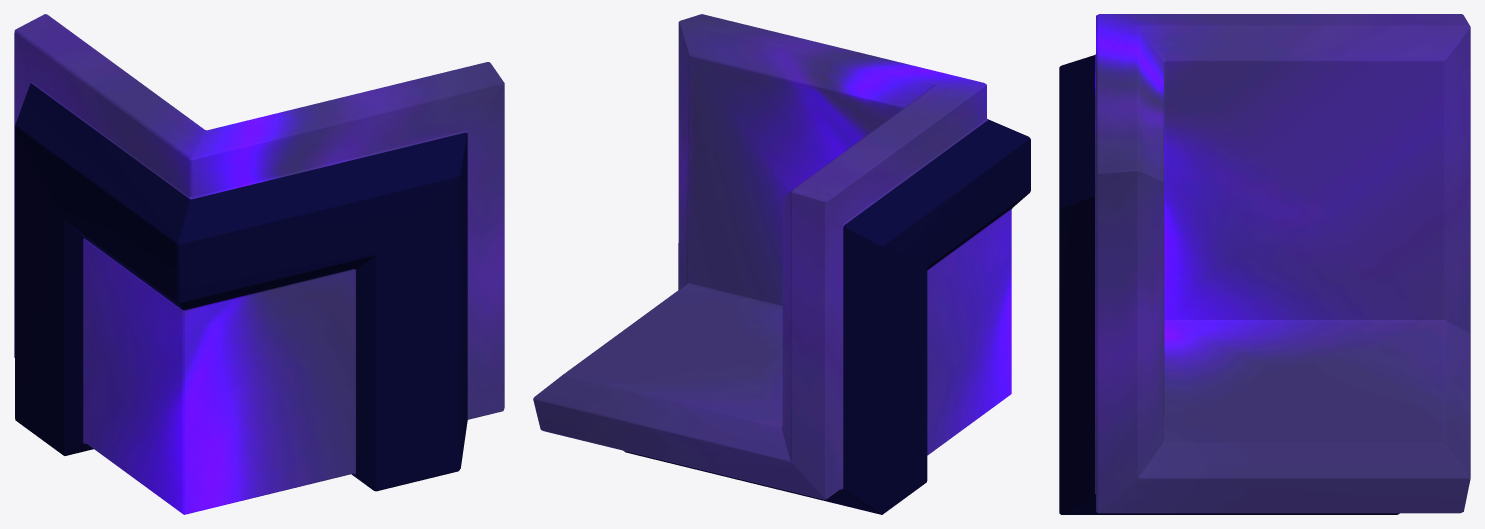
Rendered from corner2.fbx.
3 views of the same model, side by side, from view 1: azimuth 30°, elevation 25°; view 2: azimuth 150°, elevation 25°; view 3: azimuth 270°, elevation 25° (orthographic). The views are drawn at different scales.
Parts seen in each view (by area): view 1: corner2; view 2: corner2; view 3: corner2.
Part boxes in pixels (<box>): corner2: <box>14,14,504,514</box>; corner2: <box>533,14,1030,514</box>; corner2: <box>1059,14,1470,514</box>.
Size of the model in its own units: 153 by 153 by 150.
